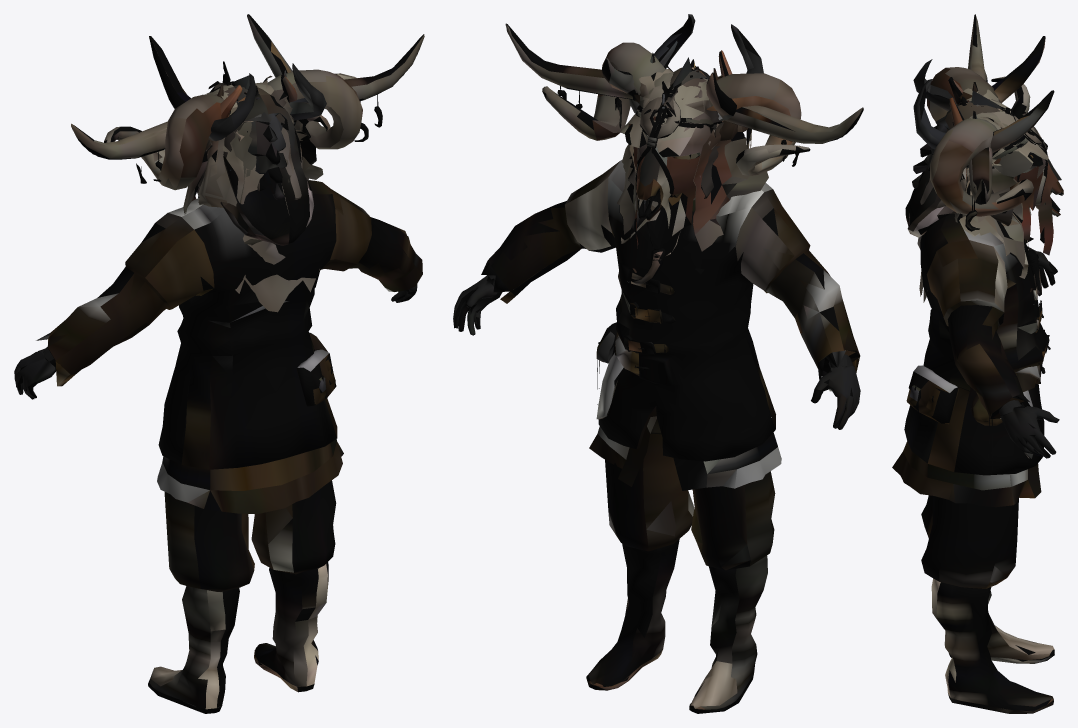
3 renders of one model, left to right at view 1: azimuth 30°, elevation 25°; view 2: azimuth 150°, elevation 25°; view 3: azimuth 270°, elevation 25°, orthographic. The views are drawn at different scales.
Visible parts, largest first — view 1: mesh_0; view 2: mesh_0; view 3: mesh_0.
Boxes of the visible parts, left/top/right/bottom form: mesh_0: left=14, top=14, right=424, bottom=713; mesh_0: left=453, top=14, right=863, bottom=713; mesh_0: left=892, top=14, right=1063, bottom=713.
Bounding box in the file's own units: 49.95 × 78.19 × 19.69.
1 material, 1 textured.
